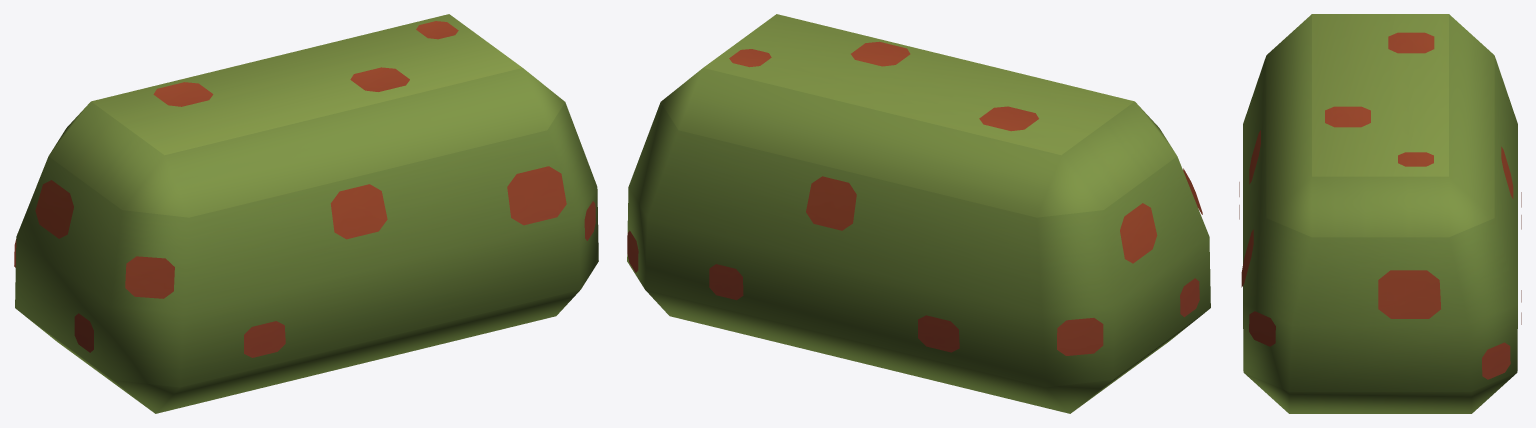
The model's file is hedge_small_x2.fbx.
3 renders of one model, left to right at view 1: azimuth 30°, elevation 25°; view 2: azimuth 150°, elevation 25°; view 3: azimuth 270°, elevation 25°, orthographic. The views are drawn at different scales.
Visible parts, largest first — view 1: hedge_small_x2; view 2: hedge_small_x2; view 3: hedge_small_x2.
Boxes of the visible parts, x1,y1,x2,y2 form: hedge_small_x2: (14, 14, 598, 413); hedge_small_x2: (627, 14, 1210, 413); hedge_small_x2: (1239, 14, 1521, 413).
Size of the model in its own units: 231 by 112 by 124.
